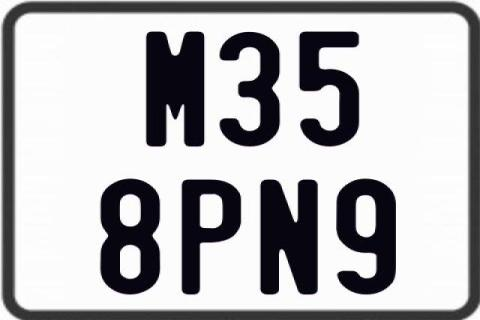0: (336, 177, 401, 297), (101, 179, 164, 299), (298, 32, 360, 150), (217, 32, 278, 146)
M: (143, 31, 207, 150)
N: (258, 177, 322, 293)
P: (182, 180, 242, 300)
